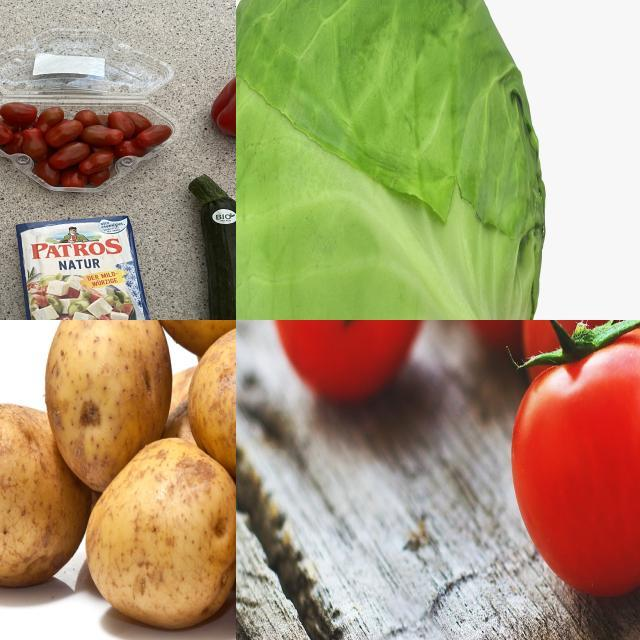bell_pepper: (207, 53, 237, 152)
cabbage: (237, 1, 552, 321)
potato: (83, 441, 237, 634), (43, 321, 169, 485), (1, 403, 92, 589), (190, 330, 237, 484)
tomato: (513, 321, 640, 599), (1, 37, 192, 193), (273, 321, 431, 401), (525, 321, 640, 393)
zucchini: (177, 169, 237, 321)
